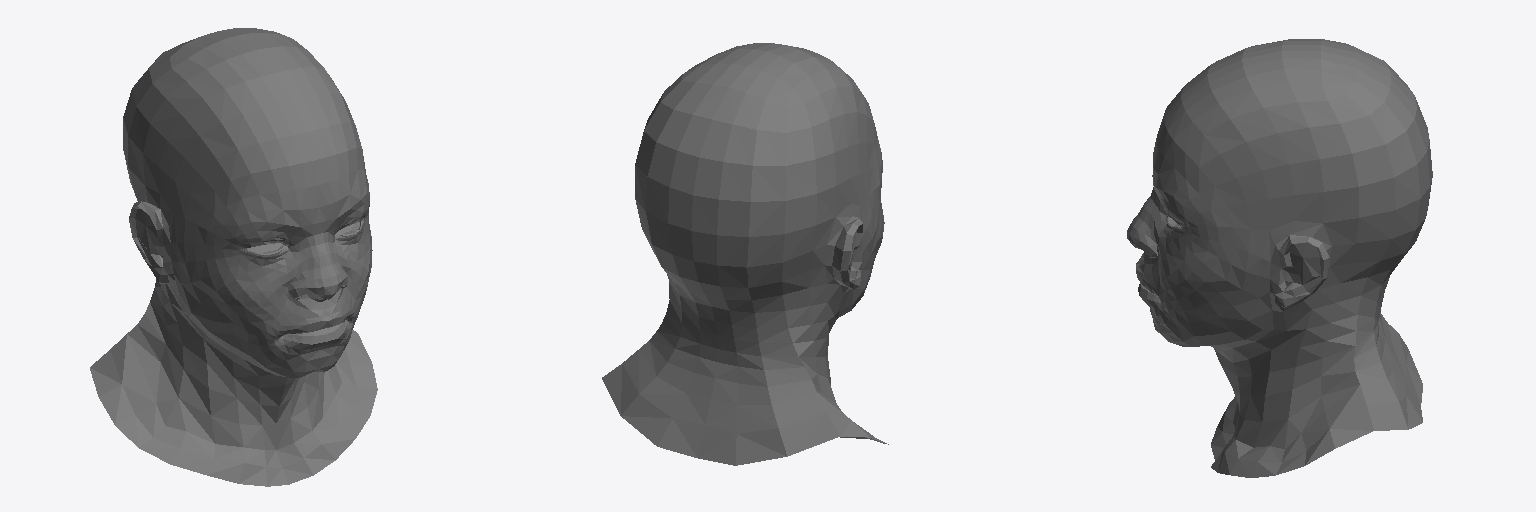
File: african_head.obj
The picture shows the model from 3 angles: view 1: azimuth 30°, elevation 25°; view 2: azimuth 150°, elevation 25°; view 3: azimuth 270°, elevation 25°; orthographic projection.
Visible parts, largest first — view 1: head; view 2: head; view 3: head.
Boxes of the visible parts, x1=… form: head: x1=90, y1=28, x2=377, y2=486; head: x1=602, y1=43, x2=888, y2=465; head: x1=1127, y1=39, x2=1432, y2=477.
Size of the model in its own units: 1.32 by 2 by 1.35.